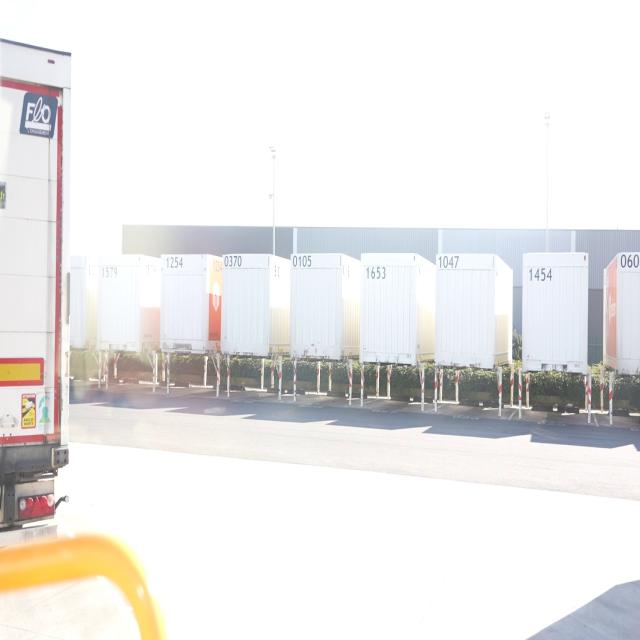Code: (526, 261, 554, 287), (361, 262, 392, 283), (98, 258, 121, 286), (436, 250, 462, 274), (290, 252, 314, 274), (221, 252, 244, 271), (164, 252, 185, 272)
